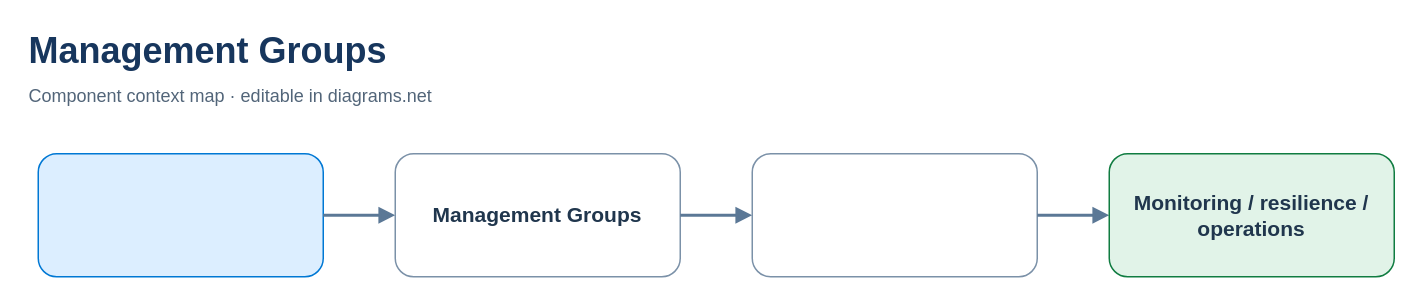
The diagram is 1421 pixels wide and 303 high, and some of its shapes have lost their labels. Here are the shapes that lost their labels. From the top down, the centre of each, then its label:
At (180,214): "A · Cloud Foundation & Landing Zones".
At (894,214): "Identity / network / governance controls".
